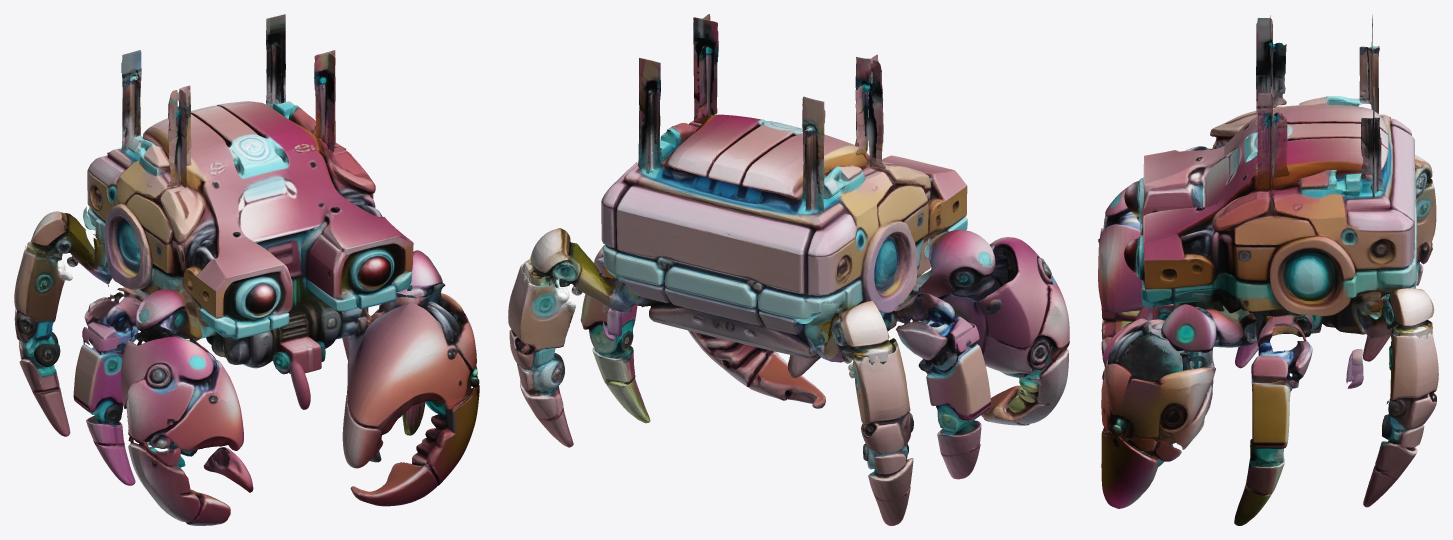
The model's file is typical_creature_robot_crab.glb.
The picture shows the model from 3 angles, left to right: view 1: azimuth 30°, elevation 25°; view 2: azimuth 150°, elevation 25°; view 3: azimuth 270°, elevation 25°; orthographic projection. The views are drawn at different scales.
Parts seen in each view (by area): view 1: 0, 5, 2, 12, 6, 8, 3, 11, 1, 7, 4; view 2: 0, 2, 12, 14, 8, 1, 13, 6, 7, 10, 11, 3; view 3: 0, 5, 14, 10, 2, 6, 4, 9, 13, 12, 3, 11.
Boxes of the visible parts, x1,y1,x2,y2 form: 0: [87, 14, 413, 409]; 5: [342, 283, 477, 468]; 2: [120, 334, 253, 492]; 12: [14, 242, 72, 436]; 6: [350, 375, 479, 506]; 8: [73, 327, 135, 485]; 3: [128, 436, 230, 525]; 11: [26, 207, 112, 298]; 1: [134, 280, 203, 342]; 7: [84, 287, 148, 354]; 4: [396, 250, 442, 297]; 0: [601, 14, 967, 358]; 2: [938, 237, 1069, 377]; 12: [842, 338, 913, 525]; 14: [508, 260, 615, 447]; 8: [918, 322, 991, 479]; 1: [909, 229, 1003, 297]; 13: [525, 228, 639, 313]; 6: [688, 330, 825, 408]; 7: [880, 293, 972, 369]; 10: [580, 263, 650, 423]; 11: [807, 301, 892, 363]; 3: [981, 341, 1069, 425]; 0: [1124, 14, 1417, 383]; 5: [1101, 318, 1215, 450]; 14: [1347, 327, 1438, 507]; 10: [1234, 373, 1291, 525]; 2: [1098, 187, 1143, 365]; 6: [1101, 424, 1181, 508]; 4: [1152, 293, 1256, 357]; 9: [1251, 314, 1313, 388]; 13: [1351, 288, 1434, 365]; 12: [1363, 183, 1436, 361]; 3: [1101, 307, 1139, 366]; 11: [1415, 154, 1432, 194].
Size of the model in its own units: 0.9318 by 0.9673 by 0.7332.
15 materials, 15 textured.
